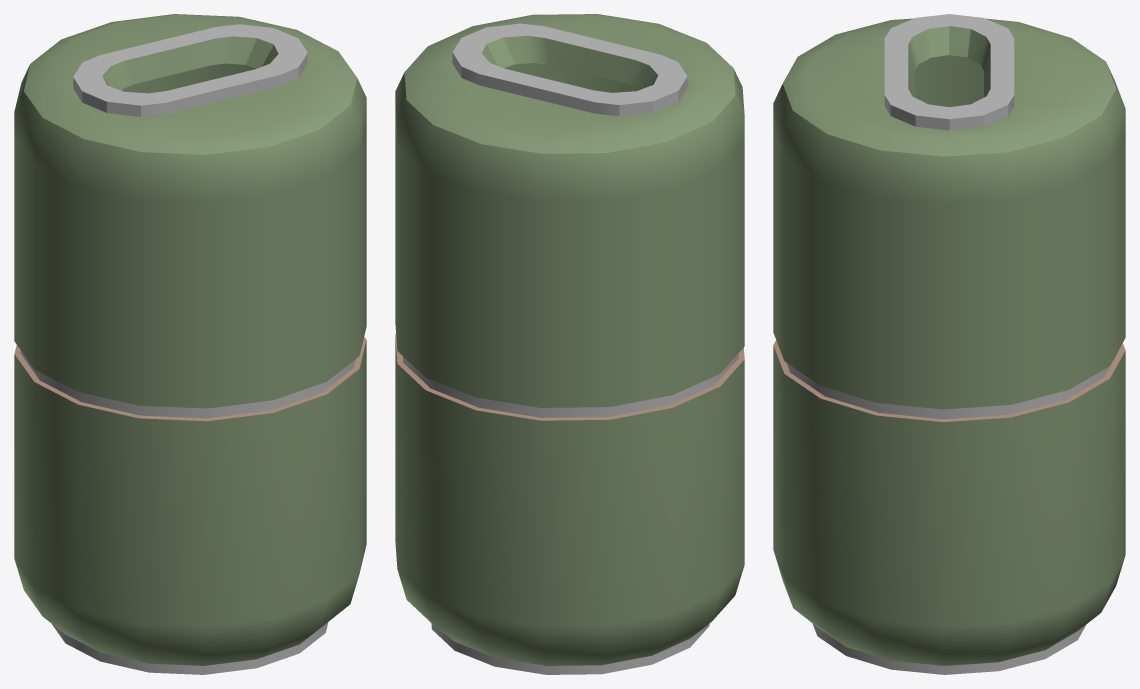
Rendered from colored can bedroom.fbx.
3 renders of one model, left to right at view 1: azimuth 30°, elevation 25°; view 2: azimuth 150°, elevation 25°; view 3: azimuth 270°, elevation 25°, orthographic.
Parts seen in each view (by area): view 1: pCylinder1; view 2: pCylinder1; view 3: pCylinder1.
Boxes of the visible parts, x1=… form: pCylinder1: x1=14, y1=14, x2=366, y2=674; pCylinder1: x1=395, y1=14, x2=744, y2=674; pCylinder1: x1=773, y1=14, x2=1125, y2=674.
Bounding box in the file's own units: 2.96 × 5.08 × 2.96.
